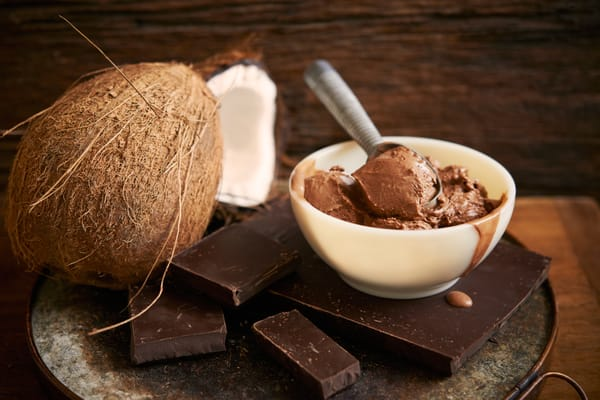sushi: (289, 134, 517, 300)
